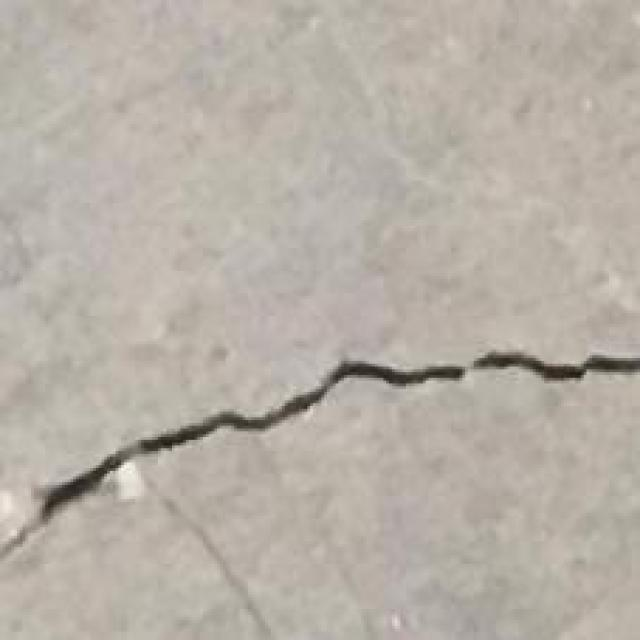diagonal crack: (0, 351, 639, 556)
